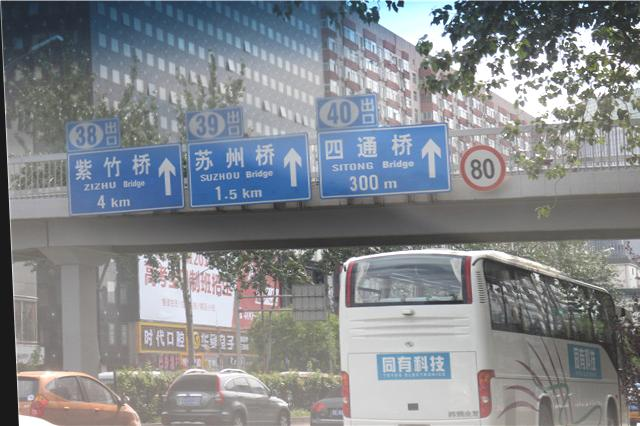limit80: (458, 146, 504, 190)
